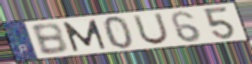0: (102, 15, 135, 50)
5: (200, 6, 237, 41)
6: (170, 10, 204, 44)
B: (29, 22, 70, 56)
M: (61, 18, 108, 53)
U: (132, 12, 171, 46)
